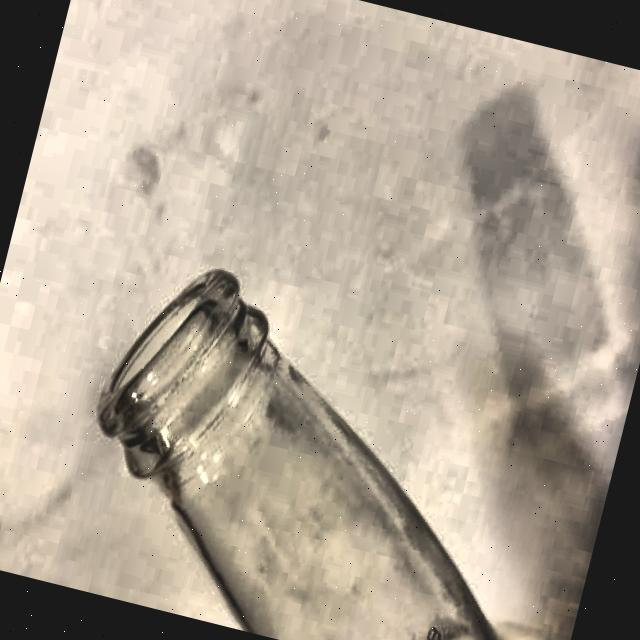glass: (47, 239, 638, 640)
